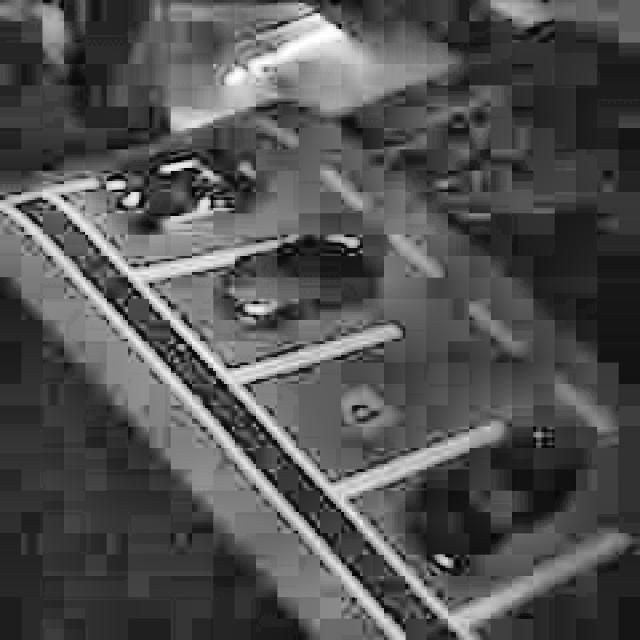car: (394, 432, 580, 574), (218, 227, 391, 334), (98, 147, 270, 239)
